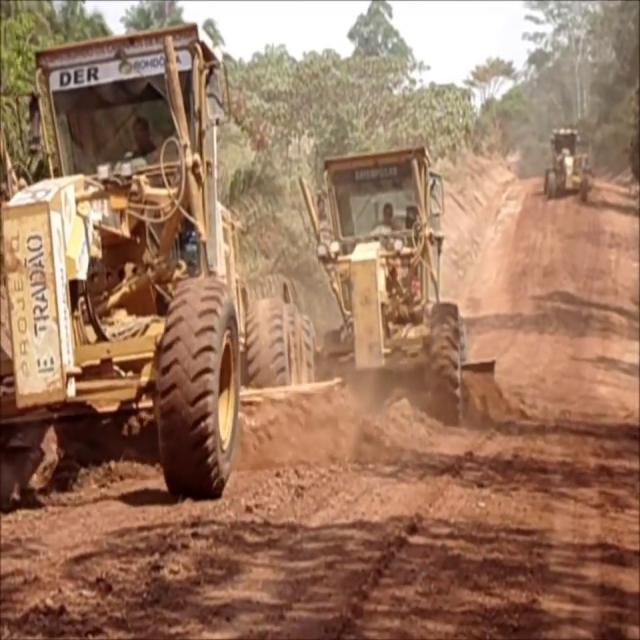buldozerpayloadergrader: (0, 26, 286, 508), (286, 148, 499, 422), (543, 128, 587, 202)
